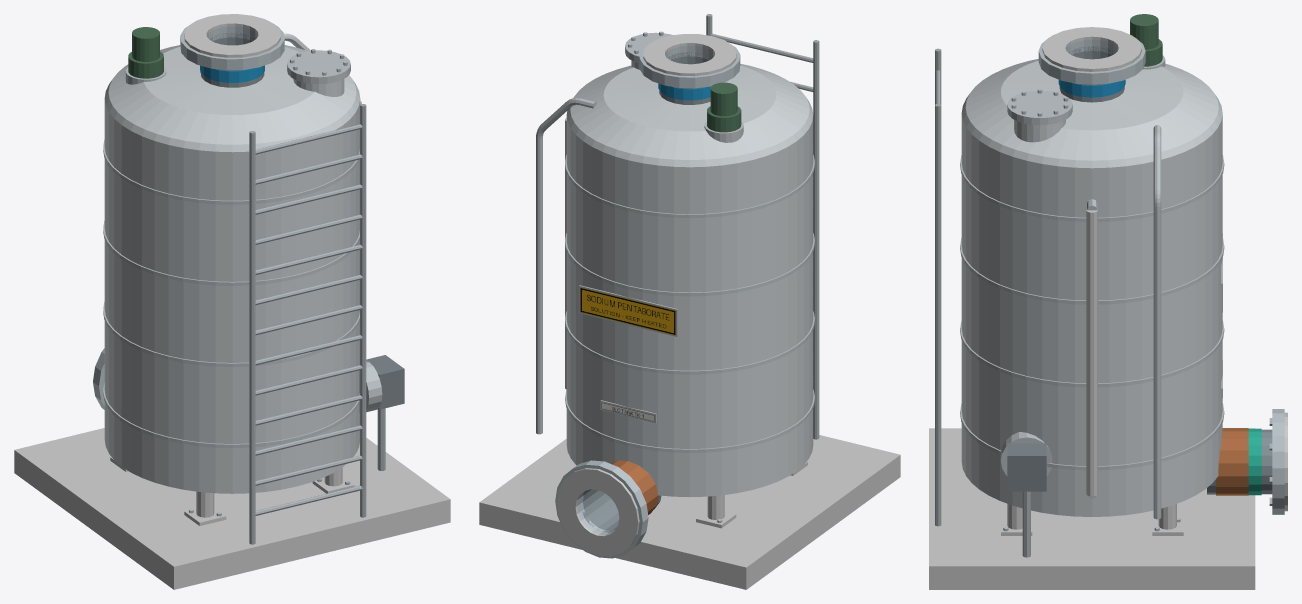
The model's file is inventory.obj.
The picture shows the model from 3 angles, left to right: view 1: azimuth 30°, elevation 25°; view 2: azimuth 150°, elevation 25°; view 3: azimuth 270°, elevation 25°; orthographic projection. The views are drawn at different scales.
Size of the model in its own units: 0.5625 by 0.9 by 0.6187.
